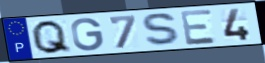4: (222, 7, 252, 42)
7: (108, 13, 139, 50)
E: (179, 8, 219, 47)
G: (70, 17, 105, 53)
Q: (30, 18, 74, 55)
S: (140, 11, 184, 48)
